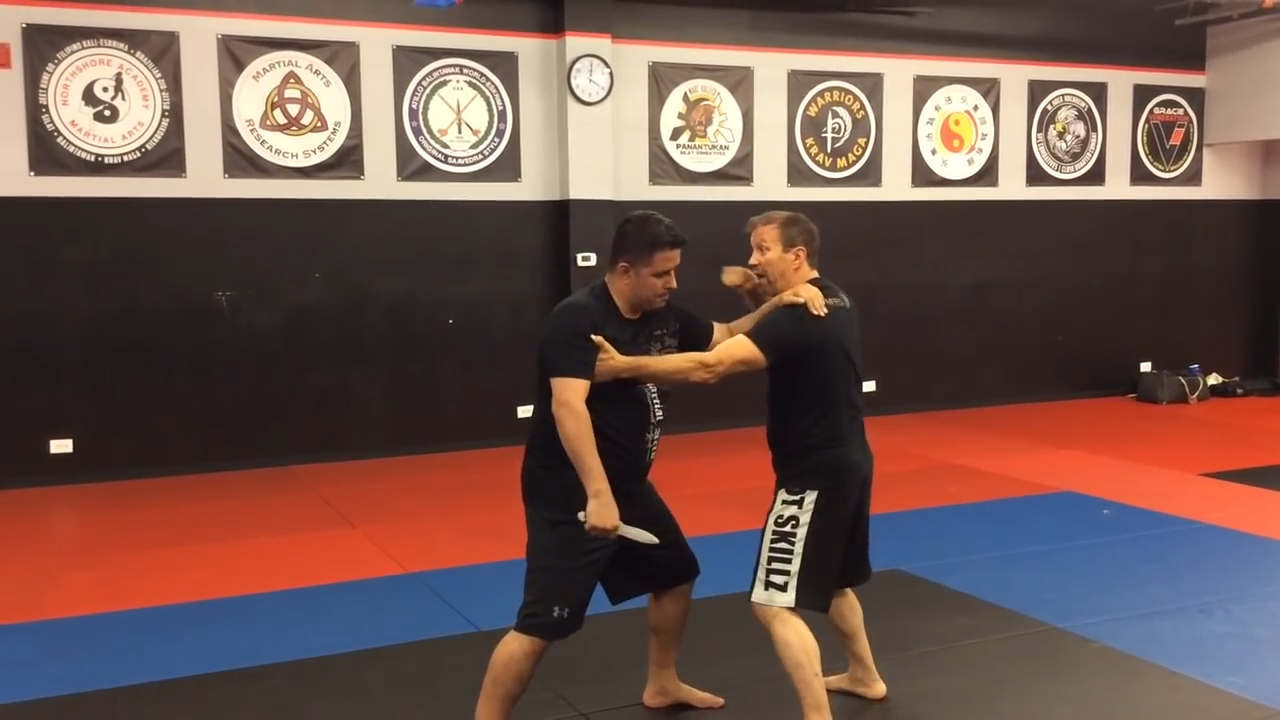knife: (569, 503, 672, 550)
